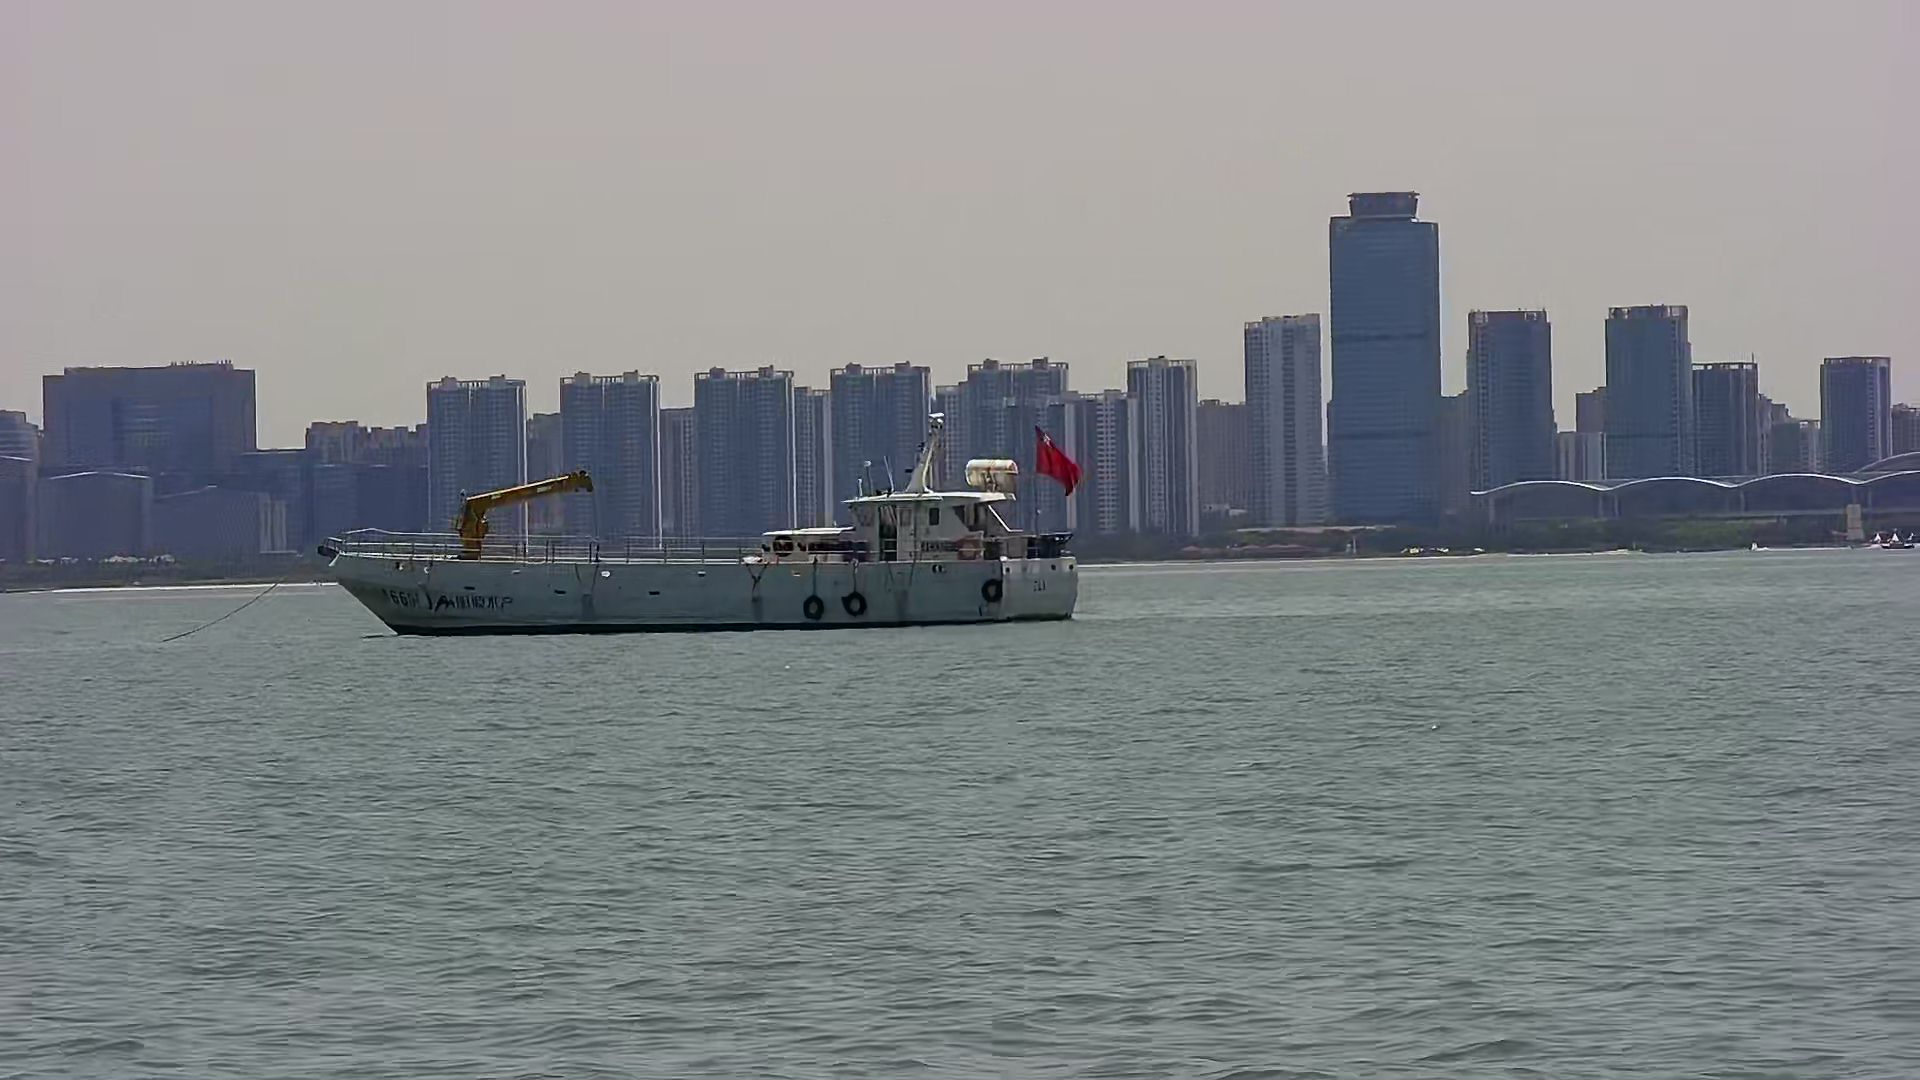ship: (302, 435, 1105, 636)
